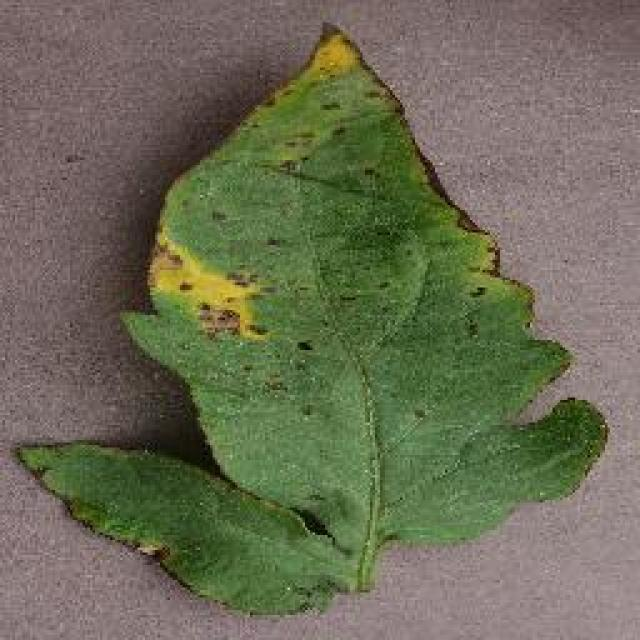Tomato bacterial spot leaf: (14, 16, 614, 624)
